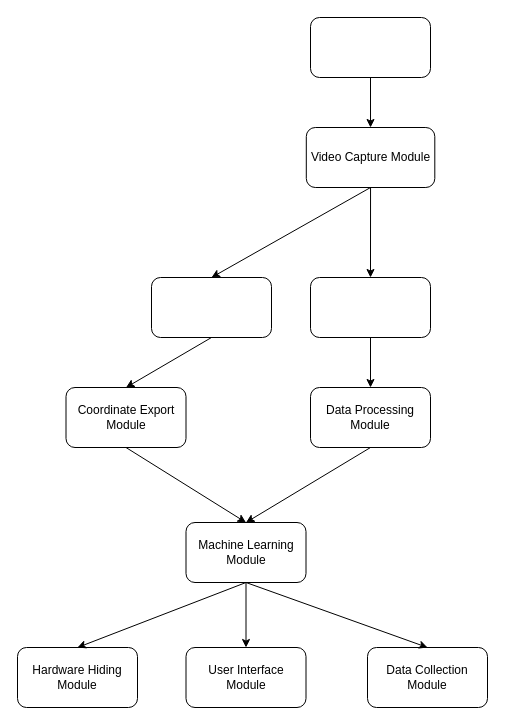
Some shapes in this 505 by 725 pixel diagram are drawn without their labels. Here are the shapes that lost their labels. From the top down, the centre of each, then its label:
At (x=370, y=47): "Gesture Detection Module".
At (x=211, y=307): "Coordinate Normalization Module".
At (x=370, y=307): "Video Analysis Module".
